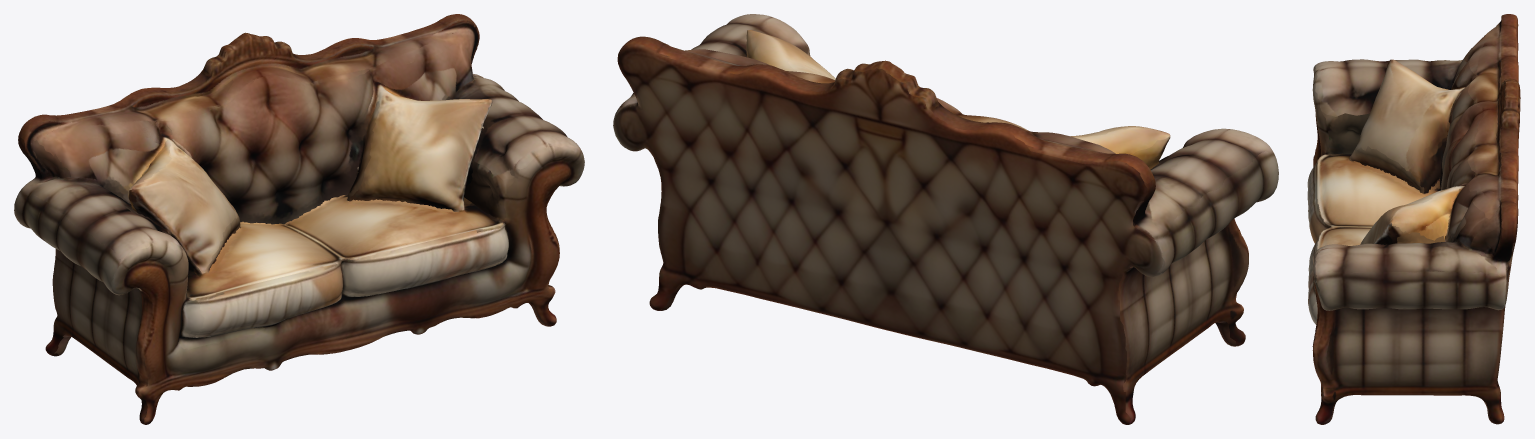
The model's file is sofa_roto.glb.
3 views of the same model, side by side, from view 1: azimuth 30°, elevation 25°; view 2: azimuth 150°, elevation 25°; view 3: azimuth 270°, elevation 25° (orthographic). The views are drawn at different scales.
Parts seen in each view (by area): view 1: tmp81nvdnk1.ply; view 2: tmp81nvdnk1.ply; view 3: tmp81nvdnk1.ply.
Part boxes in pixels (x1,y1,x2,y2): tmp81nvdnk1.ply: (14, 14, 584, 424); tmp81nvdnk1.ply: (613, 14, 1278, 424); tmp81nvdnk1.ply: (1307, 14, 1520, 424).
Bounding box in the file's own units: 0.9905 × 0.531 × 0.4089.
1 material, 1 textured.
